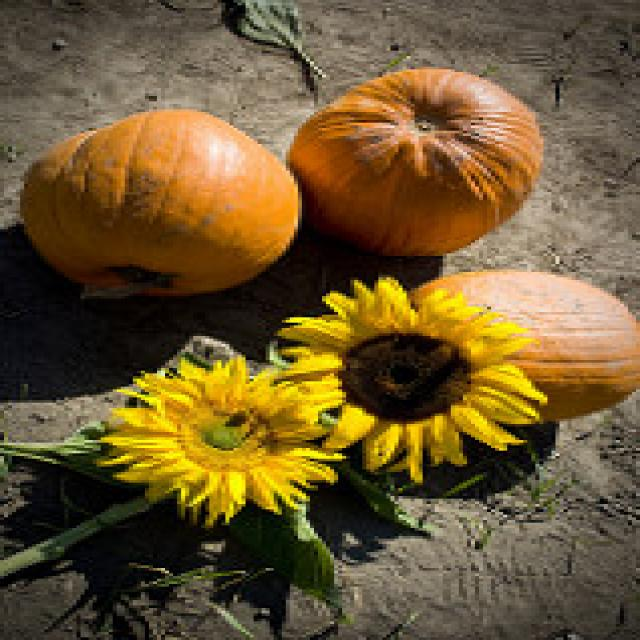sunflower: (260, 268, 554, 479), (95, 353, 348, 530)
